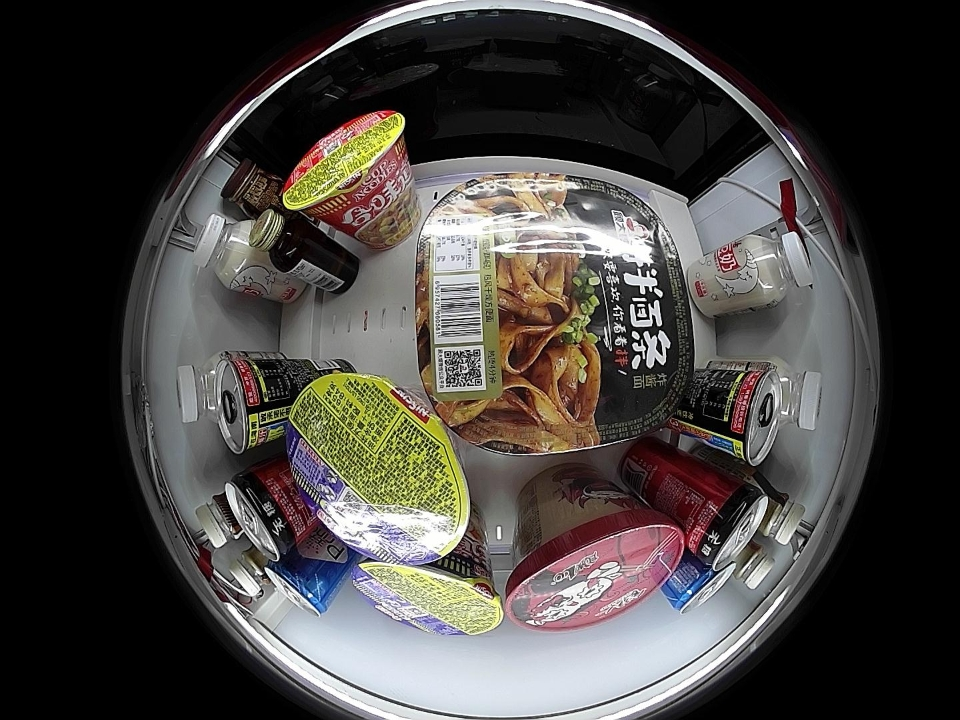gudasao: (414, 173, 695, 454)
heweidao: (286, 369, 468, 563), (350, 553, 504, 638)
heweidao3: (282, 109, 408, 224)
kafei: (751, 484, 806, 546), (196, 492, 244, 550), (226, 544, 275, 599), (731, 538, 776, 591)
libaojian: (248, 207, 309, 271)
lingdukele: (685, 476, 769, 571), (225, 465, 307, 562)
lujikafei: (219, 157, 283, 216)
qingdaowangzi-2: (265, 552, 339, 618), (664, 557, 736, 614)
suanlafen: (505, 503, 686, 632)
weiweidounai: (740, 230, 815, 308), (193, 213, 259, 290), (763, 357, 822, 433), (178, 351, 232, 427)
yezhi: (717, 370, 784, 467), (213, 359, 275, 455)
